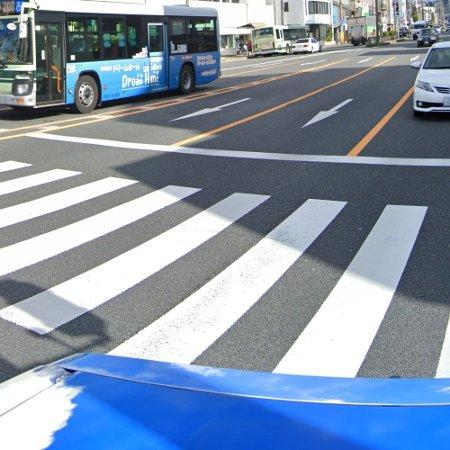crosswalks: (0, 154, 450, 376)
